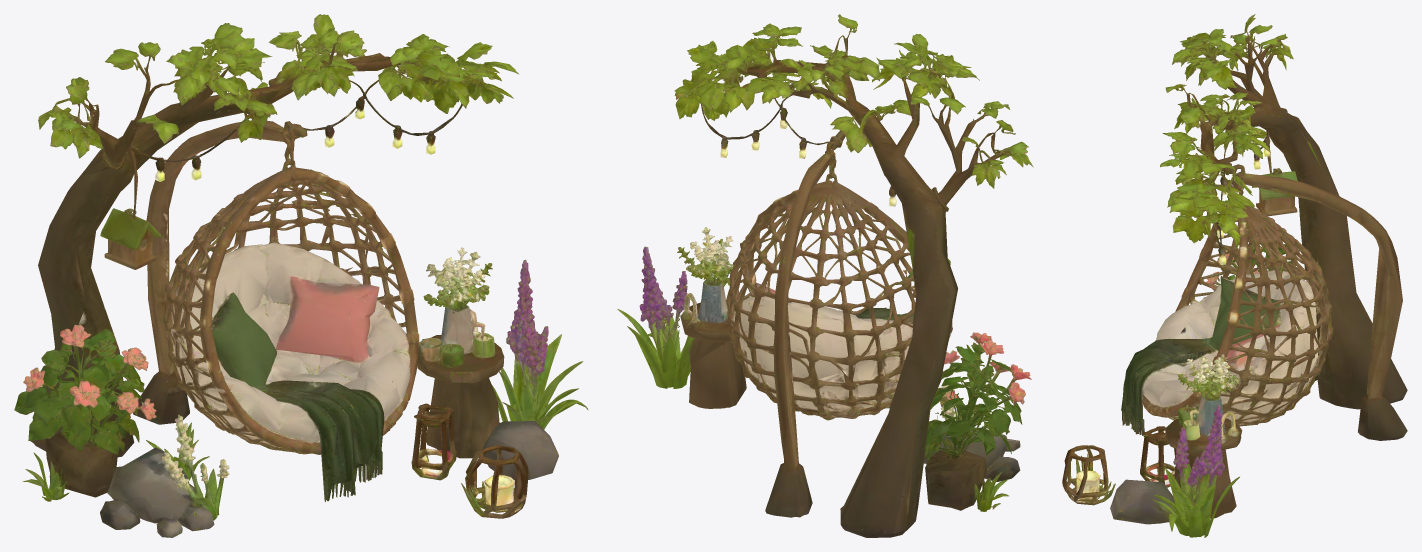
The model's file is priroda.glb.
The picture shows the model from 3 angles, left to right: view 1: azimuth 30°, elevation 25°; view 2: azimuth 150°, elevation 25°; view 3: azimuth 270°, elevation 25°; orthographic projection. The views are drawn at different scales.
Visible parts, largest first — view 1: mesh_node; view 2: mesh_node; view 3: mesh_node.
Part boxes in pixels (box(x1,y1,x2,y2)): mesh_node: box(14, 14, 588, 537); mesh_node: box(617, 14, 1033, 537); mesh_node: box(1062, 14, 1407, 537).
Bounding box in the file's own units: 1.9 × 1.71 × 1.38.
1 material, 1 textured.
